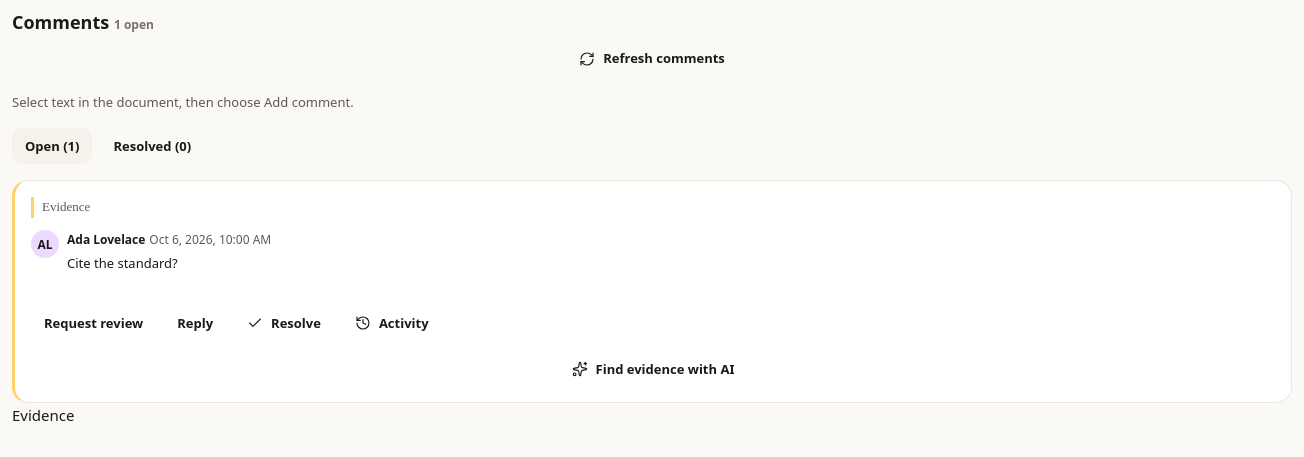
responds to permission revocation on writes
Click the button "Resolve" at {"x": 284, "y": 323}, box [234, 306, 334, 340]
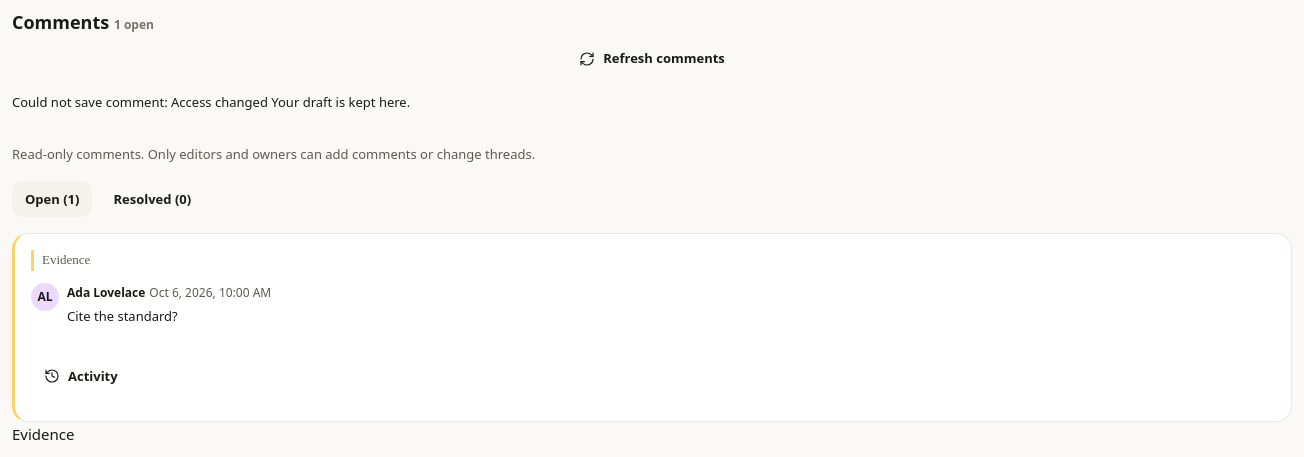
Expected: the message "Could not save comment: Access changed Your draft is kept here." is shown, [12, 93, 410, 111]
Expected: the text "Read-only comments" is shown, [12, 145, 535, 163]
